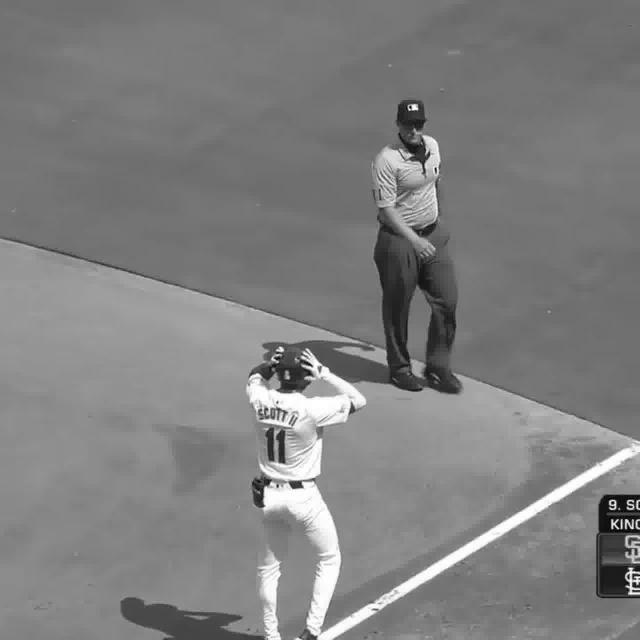shoe: (388, 367, 429, 392), (426, 367, 462, 389)
